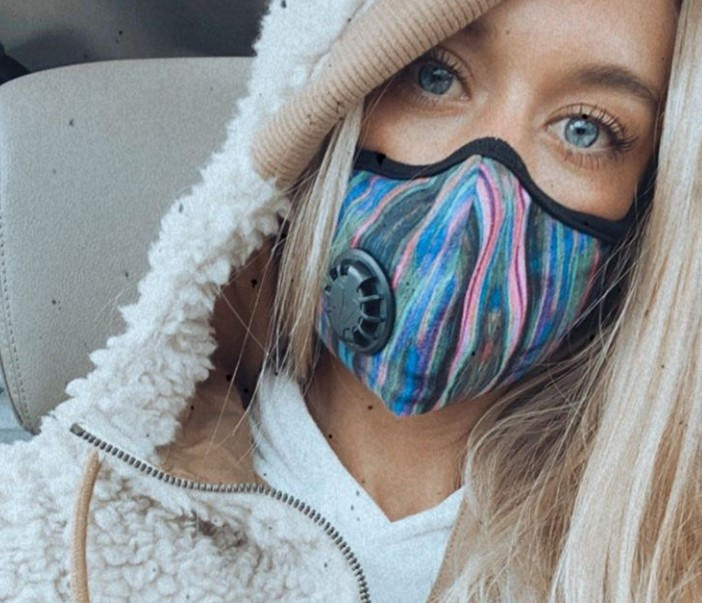face_with_mask: (271, 1, 691, 418)
